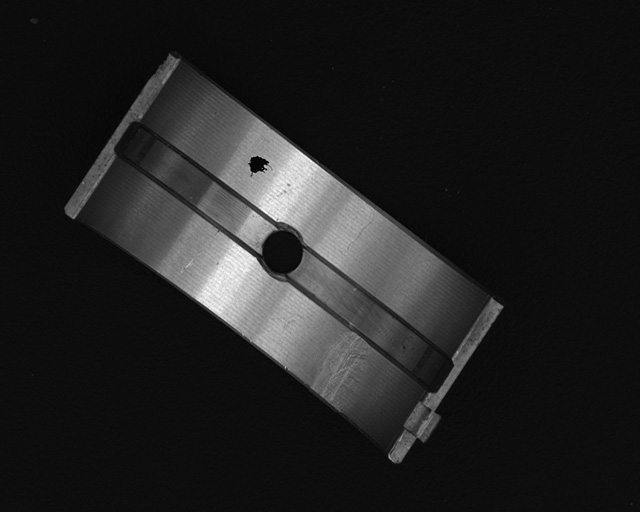blot: (247, 155, 274, 180)
gap: (289, 247, 448, 388), (116, 122, 272, 247)
hole: (260, 228, 303, 276)
nick: (179, 228, 219, 274), (347, 217, 372, 252)
scratch: (312, 332, 370, 409)
